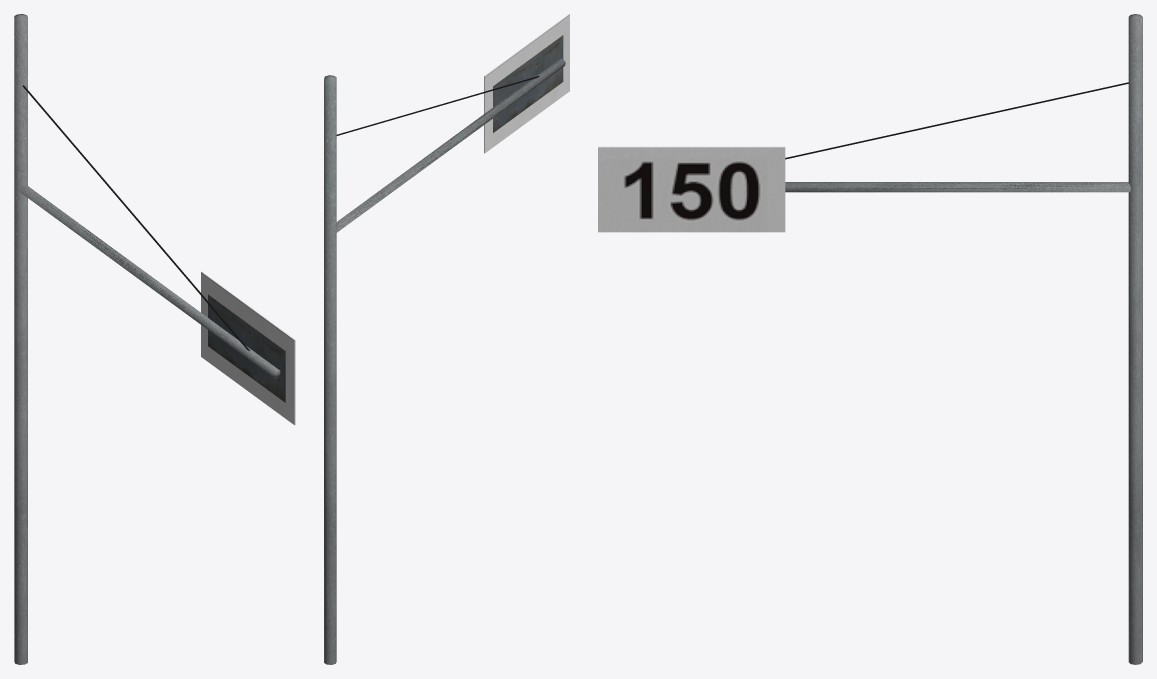
File: SignPlate-R-(150).fbx
3 renders of one model, left to right at view 1: azimuth 30°, elevation 25°; view 2: azimuth 150°, elevation 25°; view 3: azimuth 270°, elevation 25°, orthographic. The views are drawn at different scales.
Parts seen in each view (by area): view 1: Plate; view 2: Plate; view 3: Plate.
Boxes of the visible parts, x1=… form: Plate: x1=14, y1=14, x2=295, y2=664; Plate: x1=324, y1=14, x2=569, y2=664; Plate: x1=598, y1=14, x2=1142, y2=664.
Bounding box in the file's own units: 13.66 × 682 × 521.
